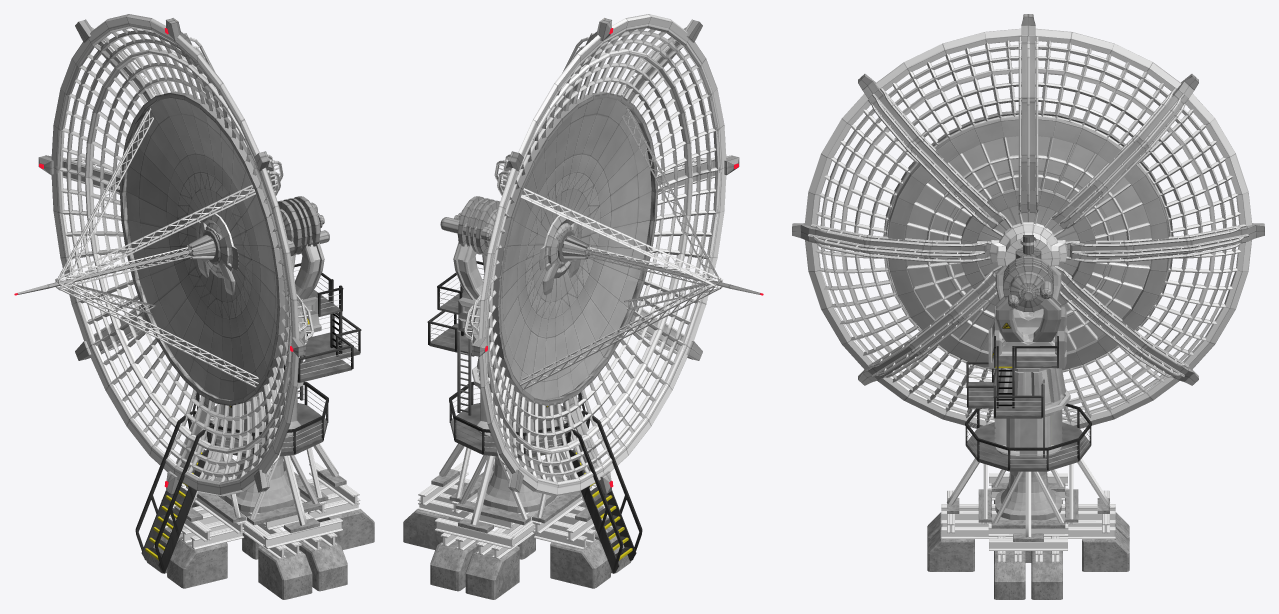
The model's file is ground-station-optimized-v1.glb.
The picture shows the model from 3 angles, left to right: view 1: azimuth 30°, elevation 25°; view 2: azimuth 150°, elevation 25°; view 3: azimuth 270°, elevation 25°; orthographic projection. The views are drawn at different scales.
Visible parts, largest first — view 1: Cylinder.022, Cube.030; view 2: Cylinder.022, Cube.030; view 3: Cylinder.022, Cube.030.
Part boxes in pixels (x1,y1,x2,y2): Cylinder.022: (14, 14, 329, 496); Cube.030: (135, 226, 374, 599); Cylinder.022: (440, 14, 763, 496); Cube.030: (403, 226, 642, 599); Cylinder.022: (792, 14, 1264, 428); Cube.030: (927, 266, 1129, 599).
Bounding box in the file's own units: 5.43 × 8.38 × 7.15.
Materials: 3 (2 with a texture image).
